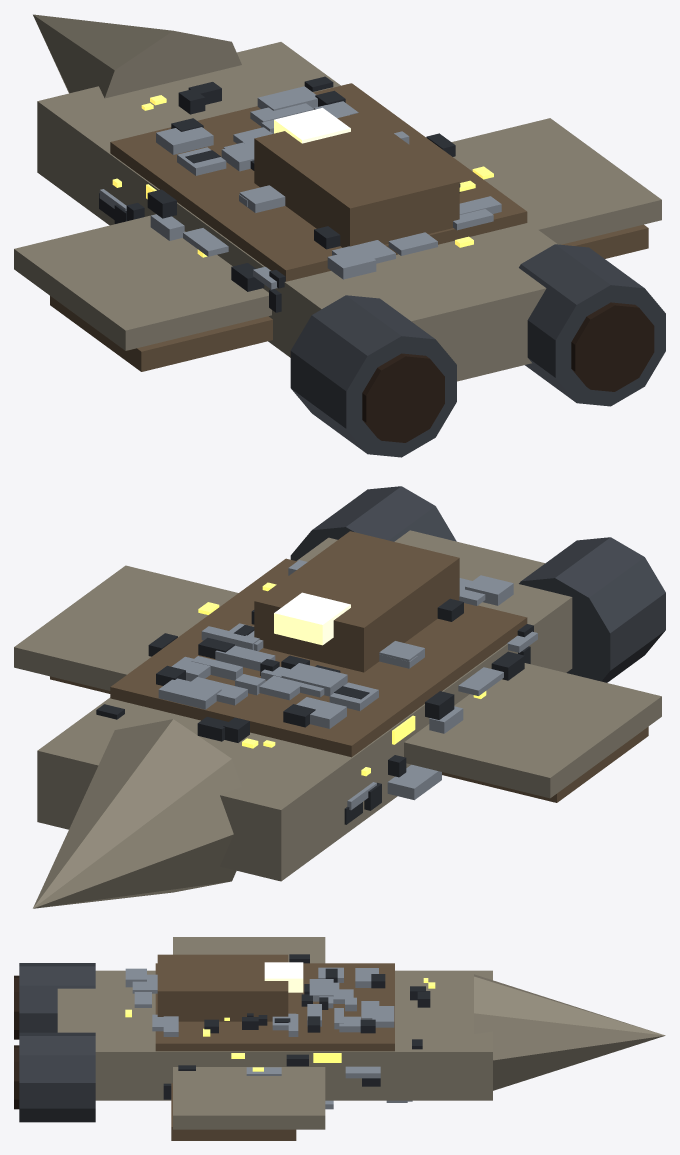
Rendered from plektor_corvette.glb.
3 views of the same model, one above another, from view 1: azimuth 30°, elevation 25°; view 2: azimuth 150°, elevation 25°; view 3: azimuth 270°, elevation 25° (orthographic). The views are drawn at different scales.
Visible parts, largest first — view 1: hull, engines; view 2: hull, engines; view 3: hull, engines.
Part boxes in pixels (x1,y1,x2,y2): hull: (14, 14, 661, 381); engines: (290, 244, 665, 457); hull: (14, 530, 661, 908); engines: (290, 486, 665, 682); hull: (57, 937, 665, 1140); engines: (14, 963, 95, 1122).
Bounding box in the file's own units: 27.23 × 8.83 × 41.99.
